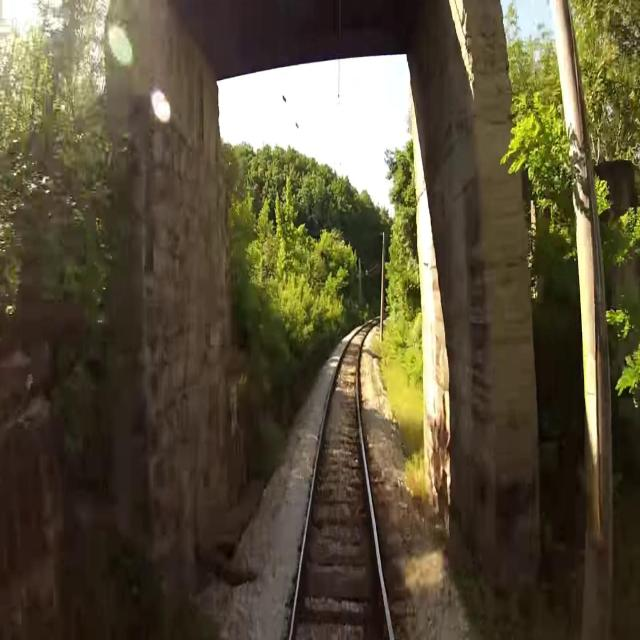rail-track: (292, 321, 389, 639)
